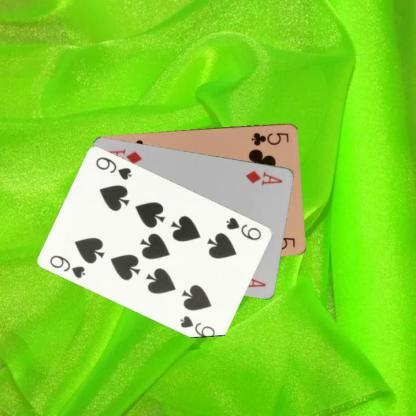5c: (248, 129, 290, 147)
9s: (223, 214, 263, 242), (48, 252, 88, 280)
Ad: (243, 168, 284, 186)
